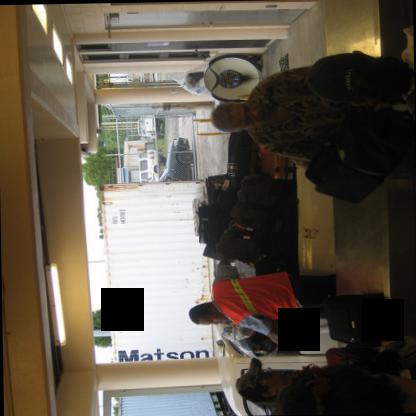backpack: (307, 51, 412, 98)
handbag: (298, 142, 384, 202)
suitcase: (327, 291, 382, 344), (226, 128, 258, 187), (209, 186, 239, 247), (217, 231, 267, 263), (252, 209, 297, 237), (258, 145, 293, 181), (254, 250, 298, 274), (325, 345, 374, 364), (204, 171, 225, 201), (198, 203, 209, 242)
